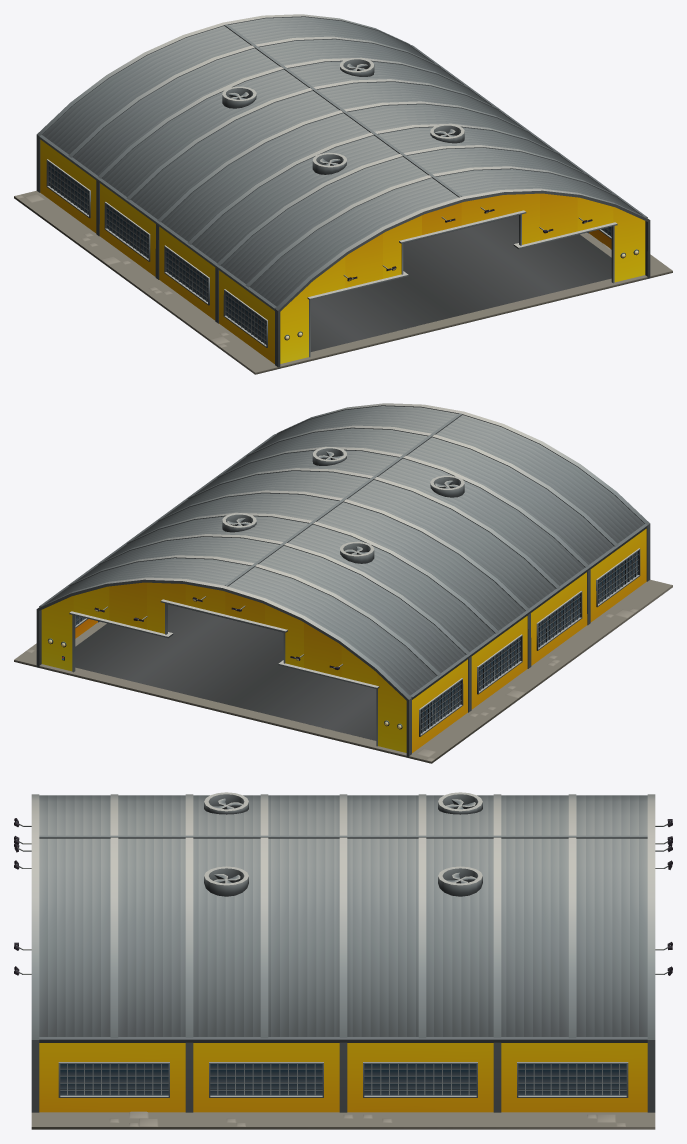
The model's file is Hangar_1A.fbx.
The picture shows the model from 3 angles, top to bottom: view 1: azimuth 30°, elevation 25°; view 2: azimuth 150°, elevation 25°; view 3: azimuth 270°, elevation 25°; orthographic projection. The views are drawn at different scales.
Visible parts, largest first — view 1: Hangar_1A, Hangar_1A_Windows; view 2: Hangar_1A, Hangar_1A_Windows; view 3: Hangar_1A, Hangar_1A_Windows.
Boxes of the visible parts, x1,y1,x2,y2 form: Hangar_1A: (14, 14, 672, 374); Hangar_1A_Windows: (49, 162, 610, 344); Hangar_1A: (14, 403, 672, 763); Hangar_1A_Windows: (76, 551, 637, 733); Hangar_1A: (14, 792, 672, 1129); Hangar_1A_Windows: (60, 1064, 626, 1095).
Size of the model in its own units: 6400 by 1828 by 6762.
